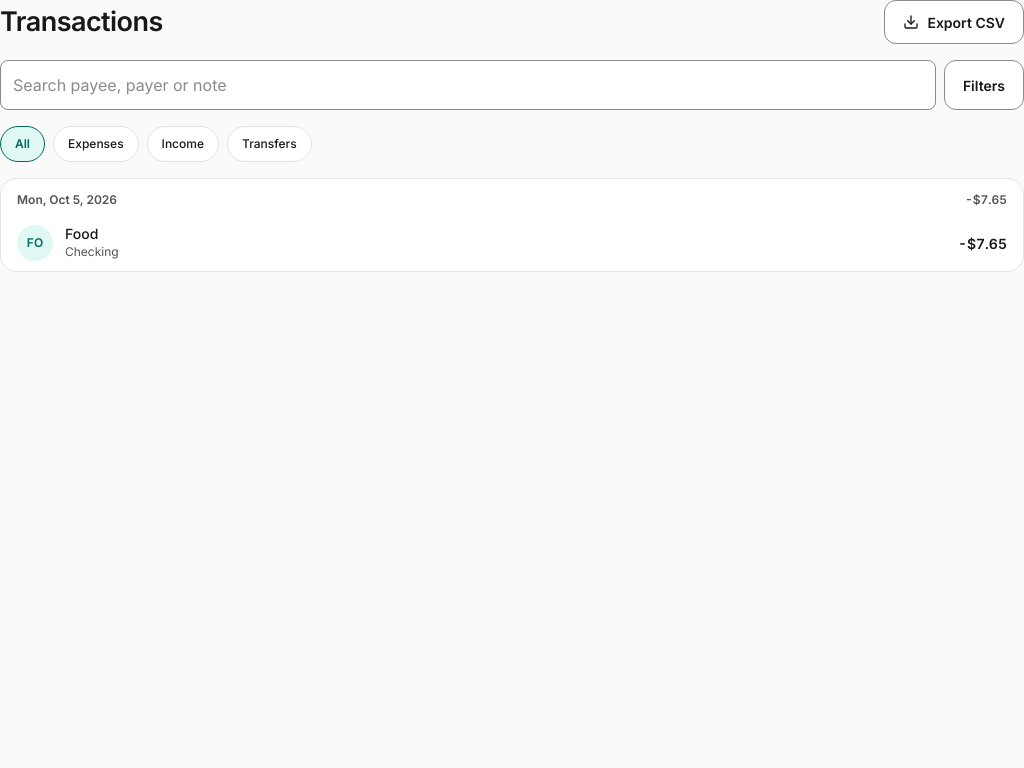
Test: the Filters sheet › lists every account, category and tag, with archived ones marked
expect the button with aria-label "Open transaction" is shown: met, box [1,215,1023,271]
Click the button "Filters" at (984, 85), box [944,60,1023,110]
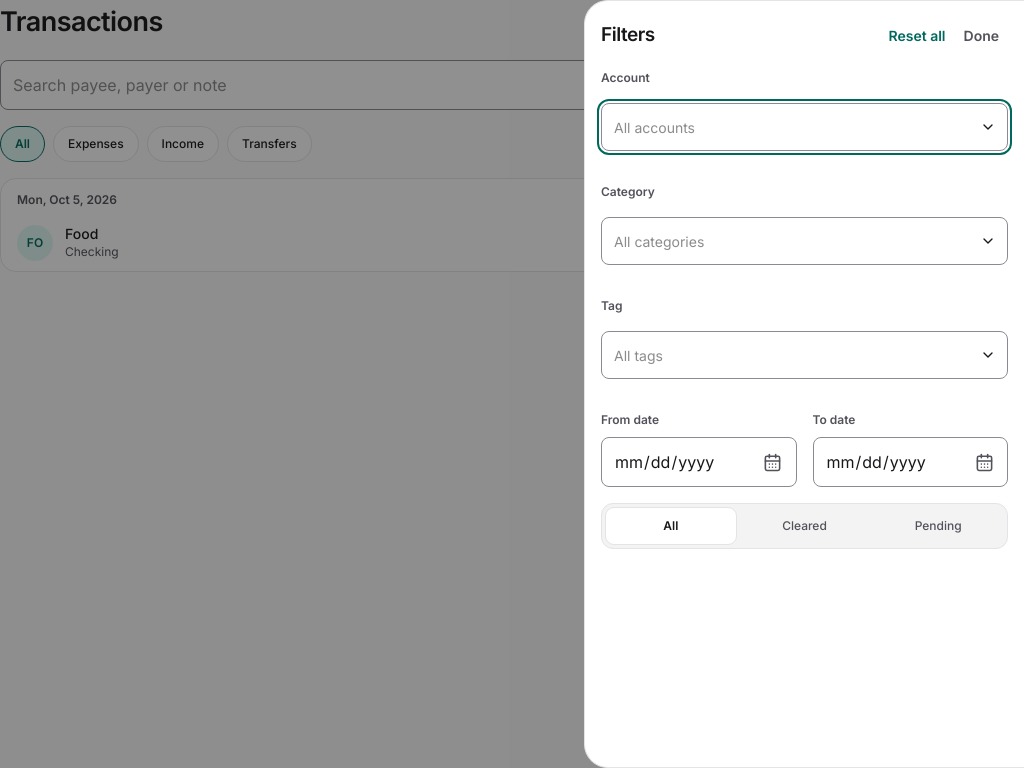
Click the dropdown labelled "Account" at (804, 127), box [601,103,1008,151]
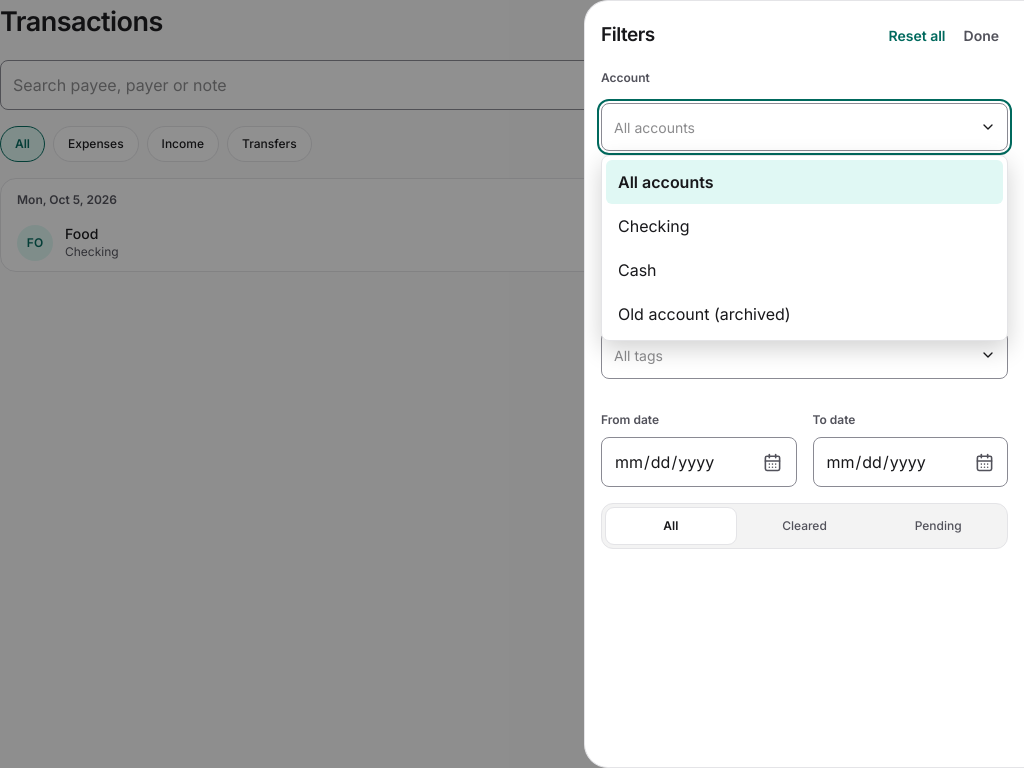
expect the options read "All accounts", "Checking", "Cash", "Old account (archived)", in this order: met, box [606,160,1003,204]; [618,216,690,236]; [618,260,657,280]; [618,304,791,324]
Press Escape
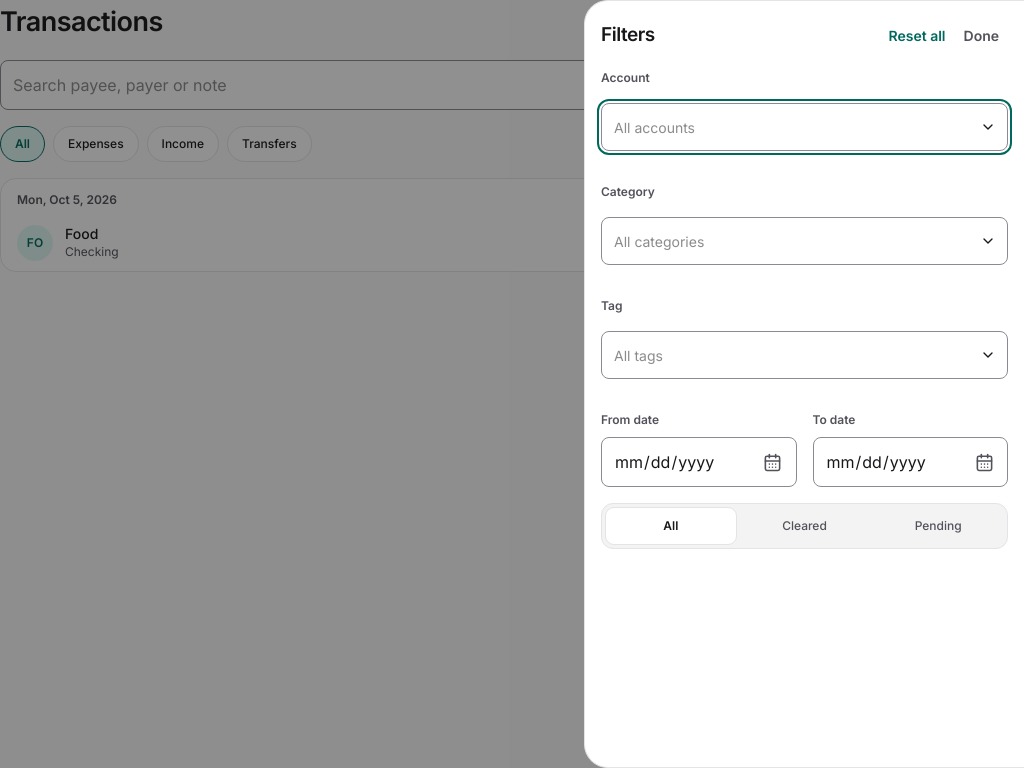
Click the dropdown labelled "Category" at (804, 241), box [601,217,1008,265]
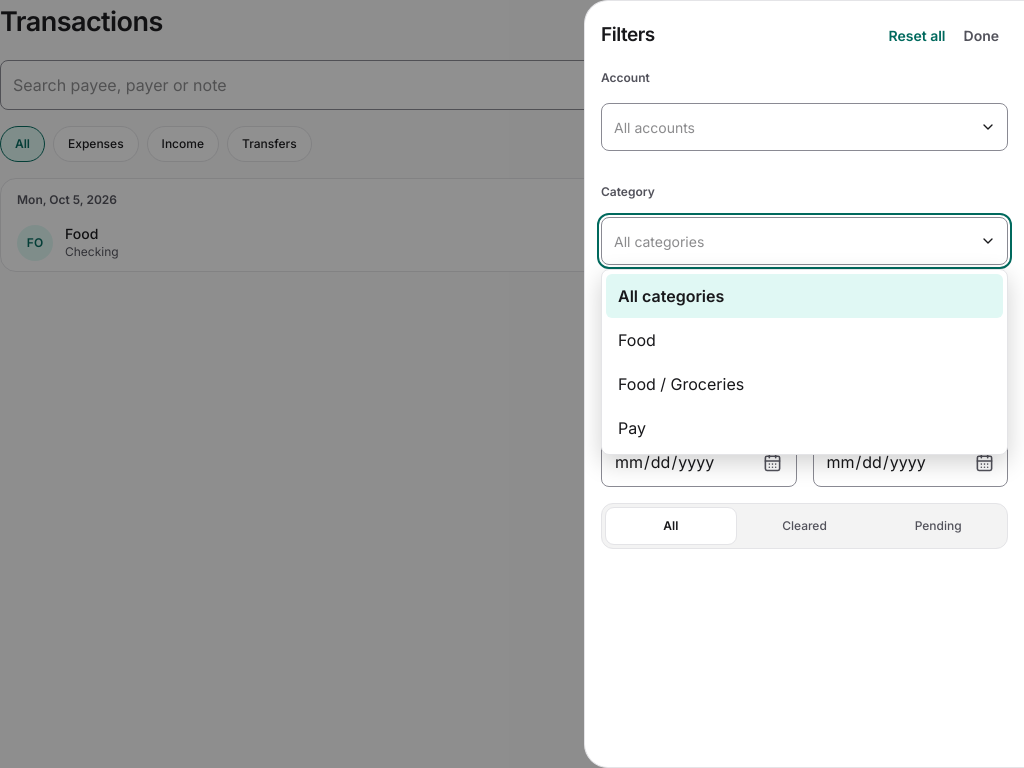
expect the option "Food / Groceries" is shown: met, box [618,374,744,394]
Press Escape
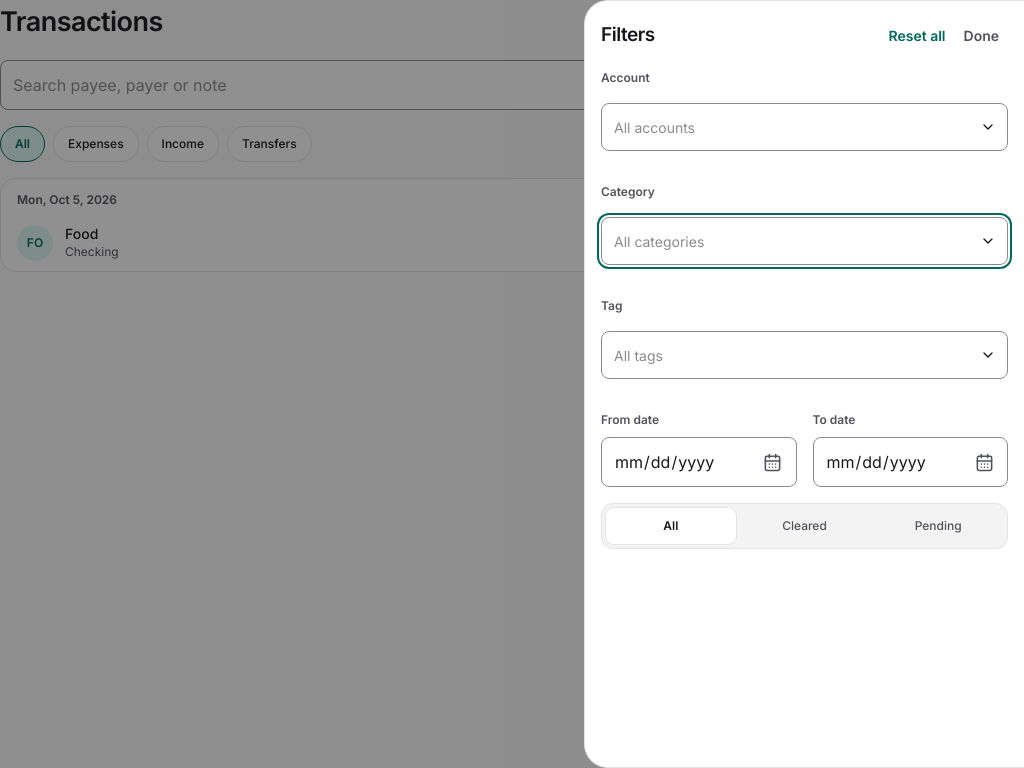
Click the dropdown labelled "Tag" at (804, 355), box [601,331,1008,379]
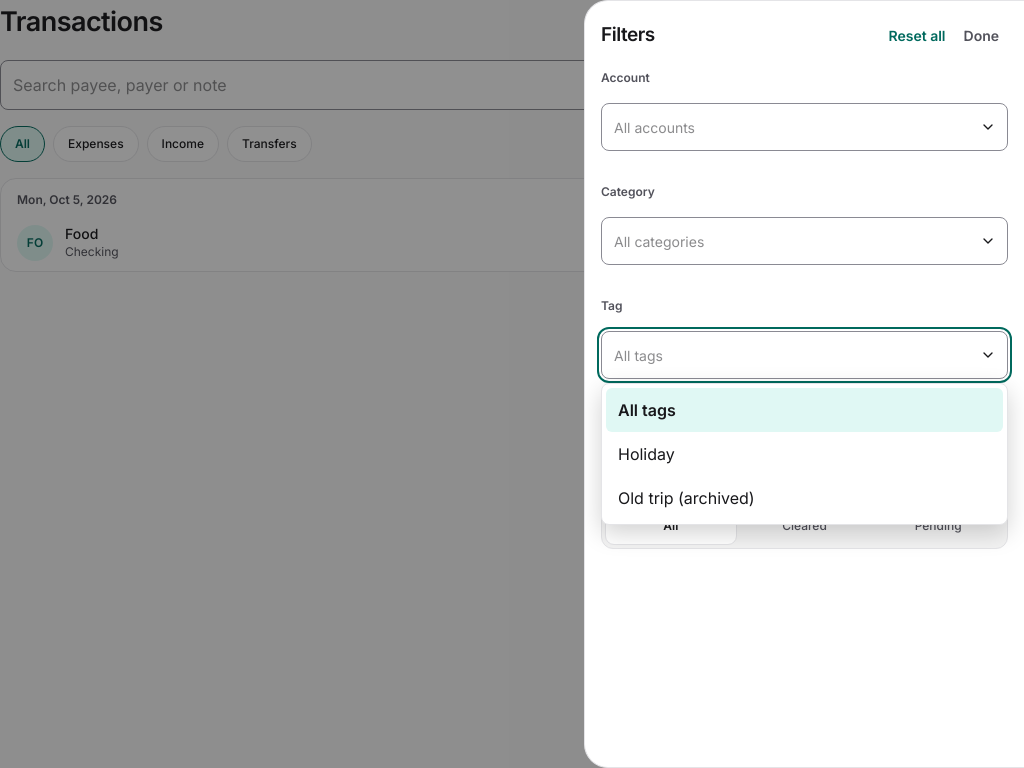
expect the option "Old trip (archived)" is shown: met, box [618,488,755,508]
